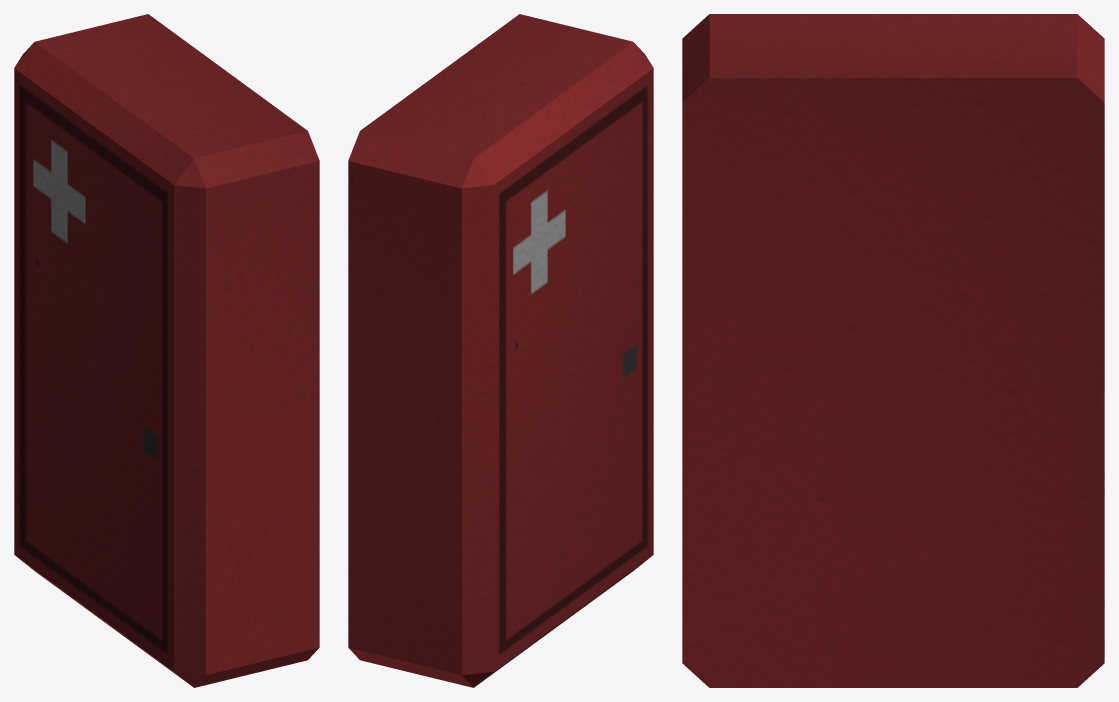
Rendered from LääkintäLaatikko.fbx.
3 views of the same model, side by side, from view 1: azimuth 30°, elevation 25°; view 2: azimuth 150°, elevation 25°; view 3: azimuth 270°, elevation 25° (orthographic). The views are drawn at different scales.
Parts seen in each view (by area): view 1: ElecticalBox.001; view 2: ElecticalBox.001; view 3: ElecticalBox.001.
Boxes of the visible parts, x1,y1,x2,y2 form: ElecticalBox.001: (14,14,319,687); ElecticalBox.001: (348,14,653,687); ElecticalBox.001: (682,14,1104,687).
Size of the model in its own units: 115 by 435 by 273.
Materials: 1 (1 with a texture image).
